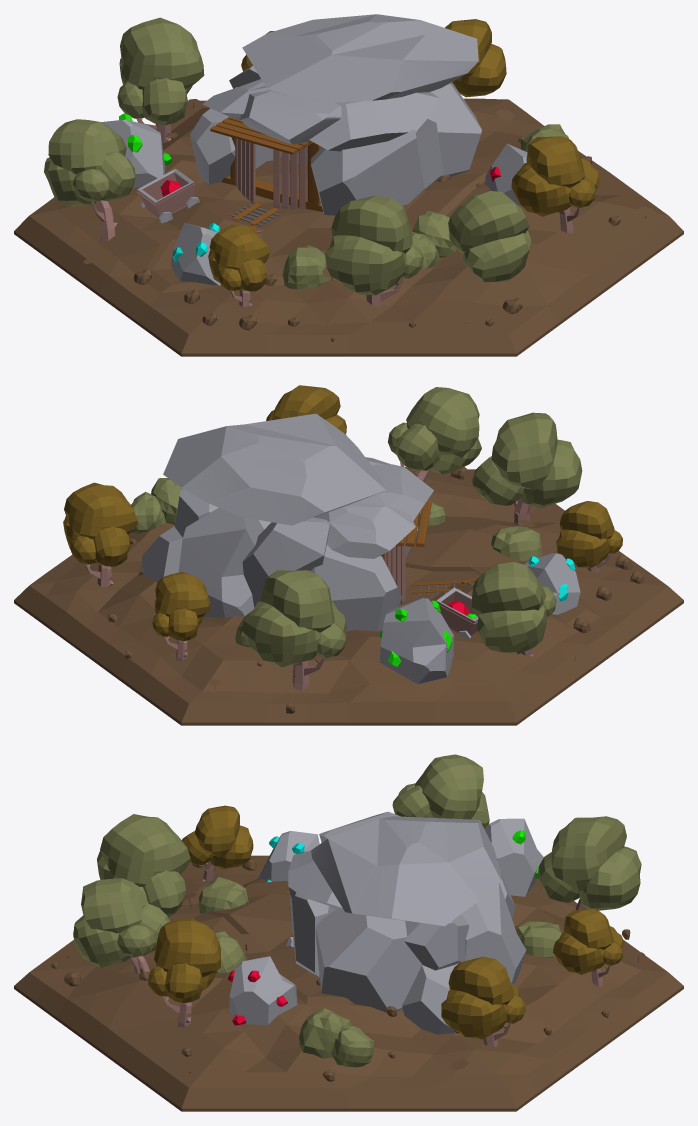
File: mine.glb
The picture shows the model from 3 angles, top to bottom: view 1: azimuth 30°, elevation 25°; view 2: azimuth 150°, elevation 25°; view 3: azimuth 270°, elevation 25°; orthographic projection.
Visible parts, largest first — view 1: land, building, big_details, small_details; view 2: land, building, big_details, small_details; view 3: land, big_details, building, small_details.
Boxes of the visible parts, bbox=[...] form: land: bbox=[14, 98, 683, 356]; building: bbox=[101, 14, 527, 285]; big_details: bbox=[44, 17, 601, 306]; small_details: bbox=[83, 99, 656, 341]; land: bbox=[14, 467, 683, 725]; building: bbox=[141, 413, 580, 684]; big_details: bbox=[63, 385, 622, 691]; small_details: bbox=[73, 467, 644, 713]; land: bbox=[14, 855, 683, 1111]; big_details: bbox=[73, 754, 641, 1067]; building: bbox=[228, 811, 543, 1034]; small_details: bbox=[51, 859, 644, 1081].
Bounding box in the file's own units: 1.73 × 0.6951 × 2.
